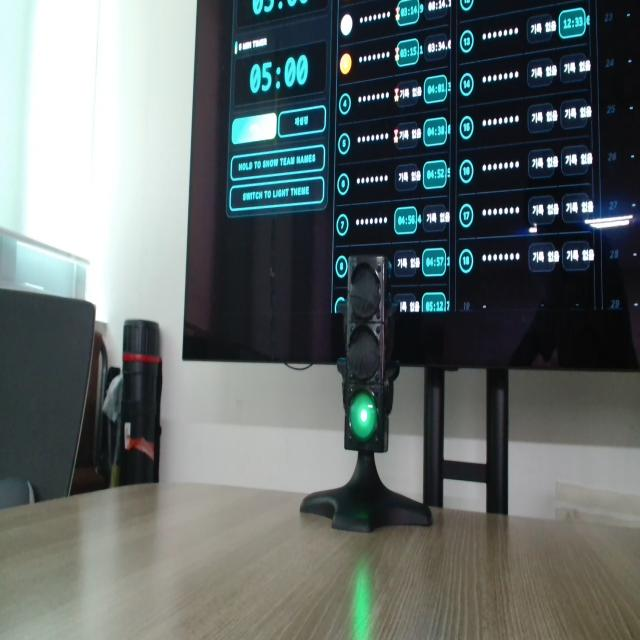green_light: (350, 392, 376, 441)
